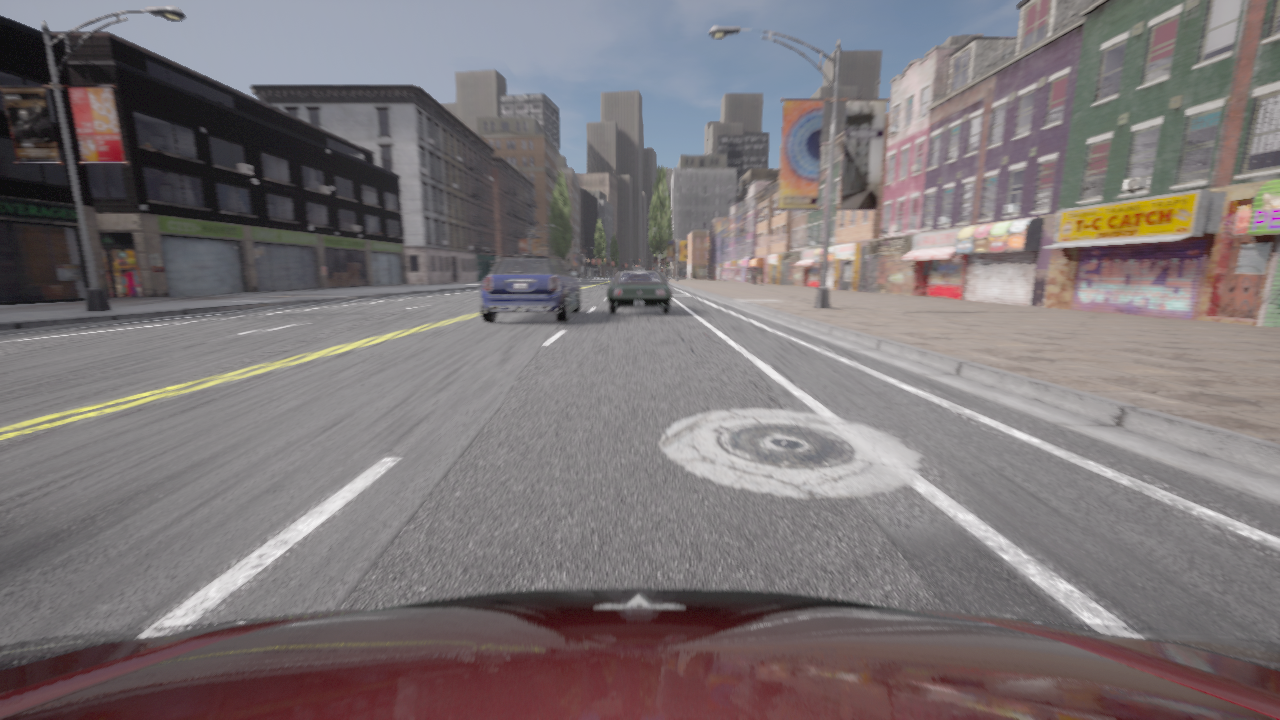cyclist: (0, 588, 1279, 719), (480, 250, 580, 321), (607, 271, 671, 313), (633, 268, 646, 270), (634, 267, 645, 268)
